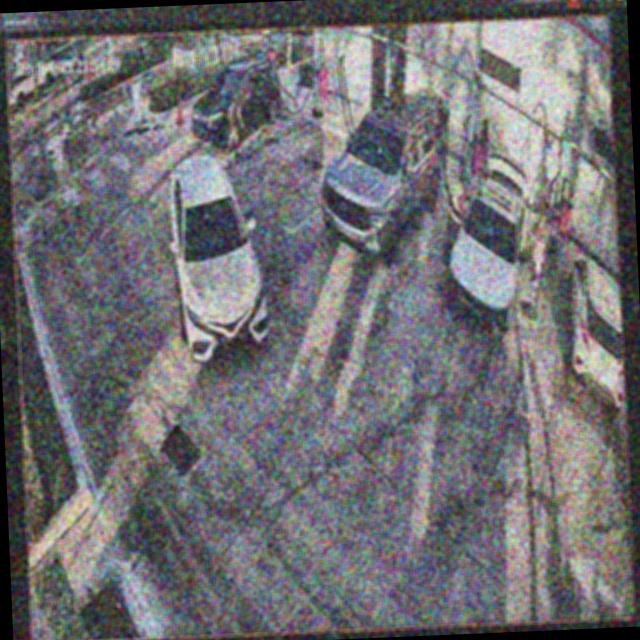Car: (168, 151, 272, 367), (318, 92, 447, 262), (445, 156, 534, 340), (190, 63, 286, 144)
